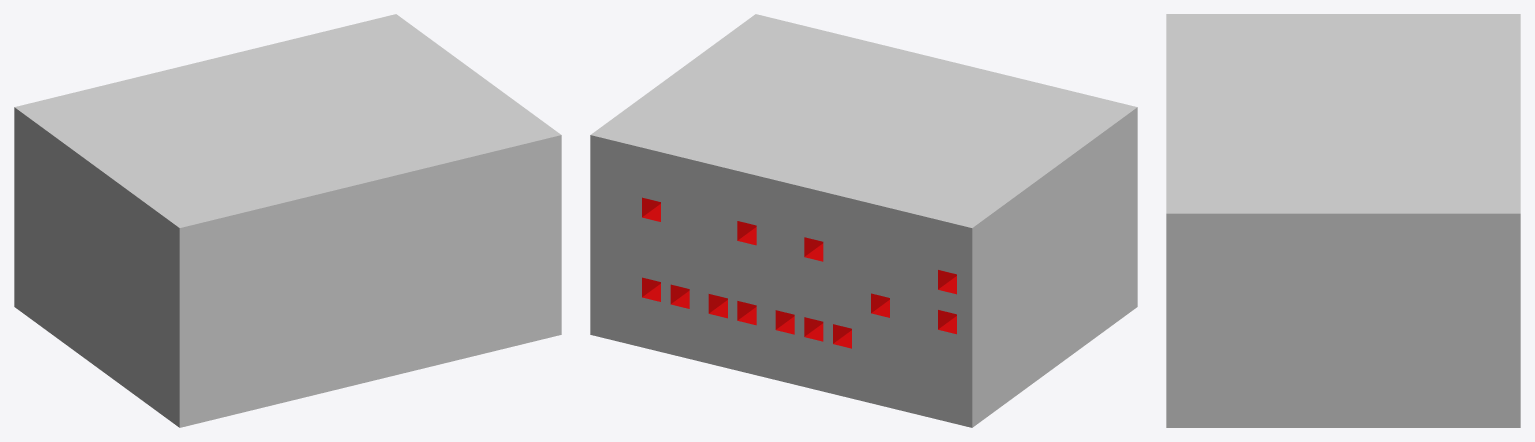
File: foldup_2.fbx
3 renders of one model, left to right at view 1: azimuth 30°, elevation 25°; view 2: azimuth 150°, elevation 25°; view 3: azimuth 270°, elevation 25°, orthographic. The views are drawn at different scales.
Parts seen in each view (by area): view 1: 立方体.009; view 2: 立方体.009; view 3: 立方体.009.
Part boxes in pixels (x1,y1,x2,y2): 立方体.009: (14, 14, 561, 427); 立方体.009: (590, 14, 1137, 427); 立方体.009: (1166, 14, 1520, 427).
Bounding box in the file's own units: 4000 × 2000 × 3000.
